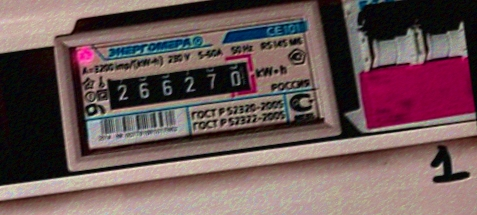0: (227, 68, 242, 87)
2: (113, 82, 128, 101), (182, 74, 195, 93)
6: (136, 80, 150, 99), (159, 78, 173, 97)
7: (204, 71, 218, 90)
screen: (94, 49, 262, 119)
